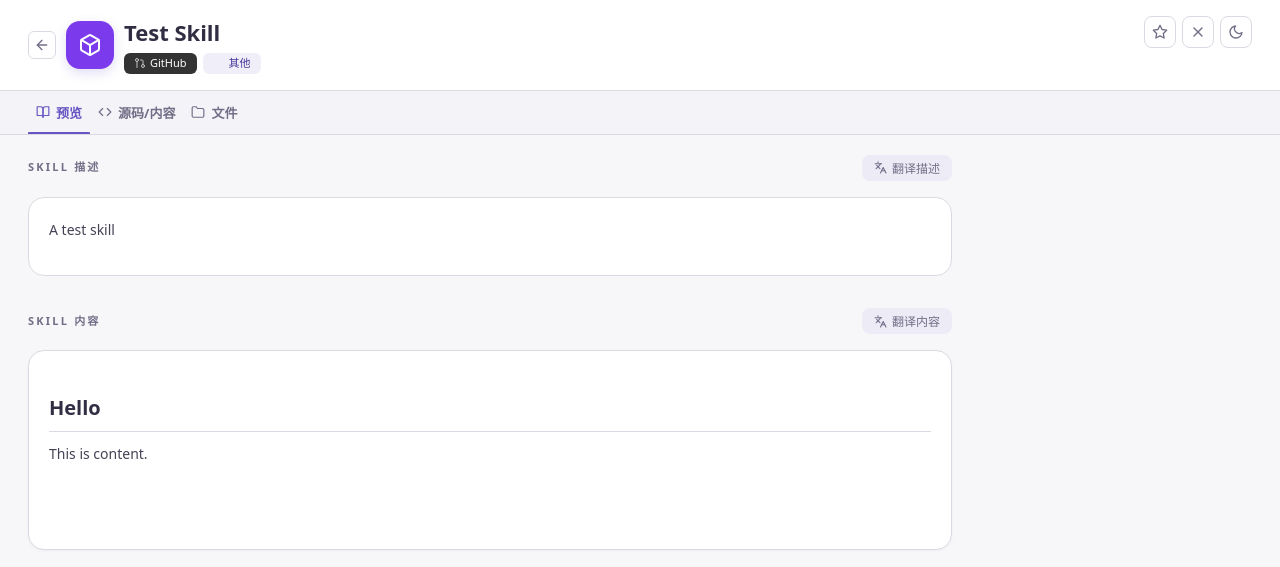
SkillDetailBase › files tab shows empty state when no skillDir
Click the button "文件".
click(214, 112)  # box x1=183 y1=90 x2=245 y2=134
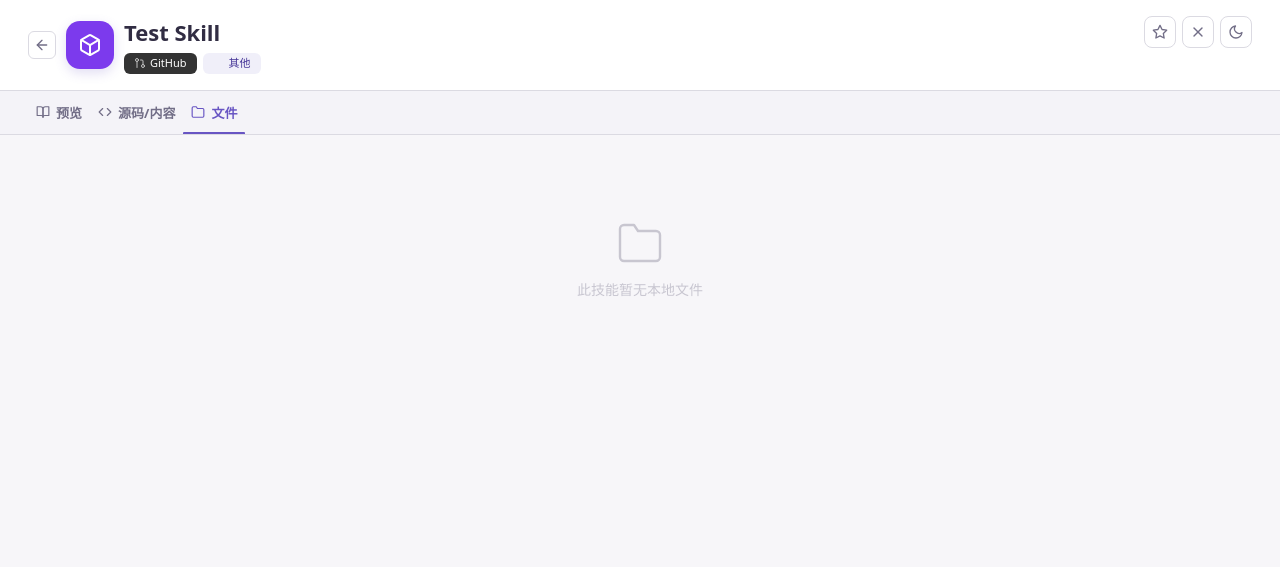
expect the element with class "empty-state" is shown: met, box x1=577 y1=218 x2=703 y2=298
expect the element with class "empty-state" shows "暂无本地文件": met, box x1=577 y1=280 x2=703 y2=298
